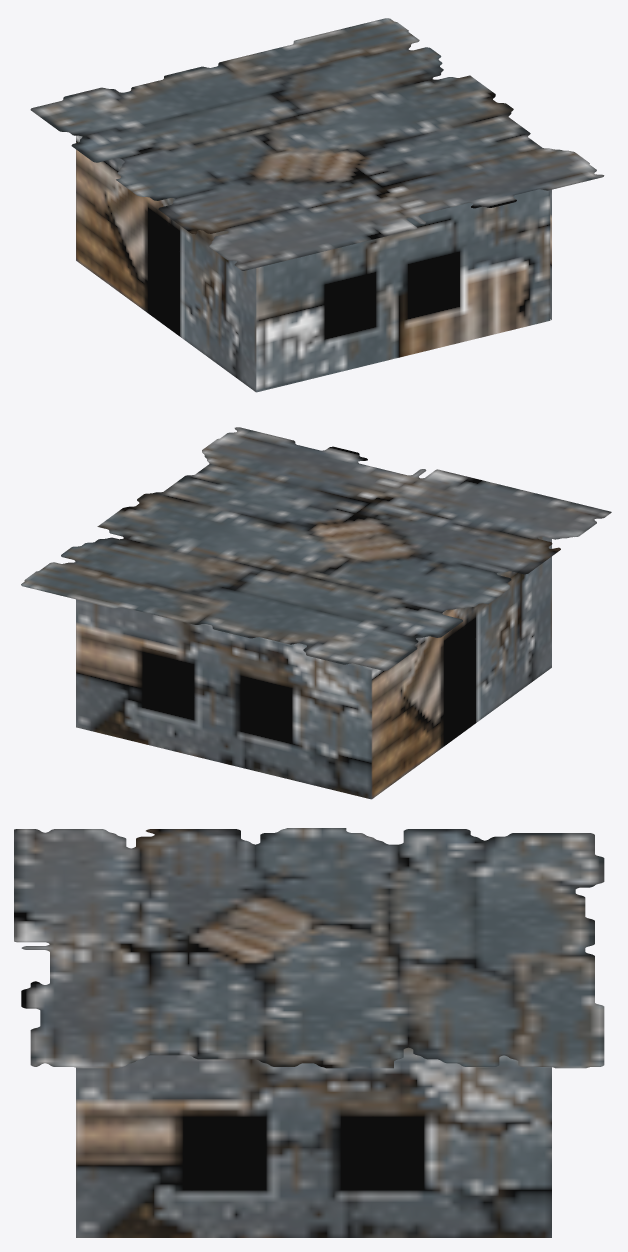
Rendered from crashshanty3.glb.
3 views of the same model, one above another, from view 1: azimuth 30°, elevation 25°; view 2: azimuth 150°, elevation 25°; view 3: azimuth 270°, elevation 25° (orthographic). The views are drawn at different scales.
Visible parts, largest first — view 1: CrashShanty3; view 2: CrashShanty3; view 3: CrashShanty3.
Boxes of the visible parts, <box> form: CrashShanty3: <box>30,18,604,392</box>; CrashShanty3: <box>21,427,611,799</box>; CrashShanty3: <box>14,828,604,1237</box>.
Bounding box in the file's own units: 6.12 × 2.31 × 6.46.
1 material, 1 textured.
